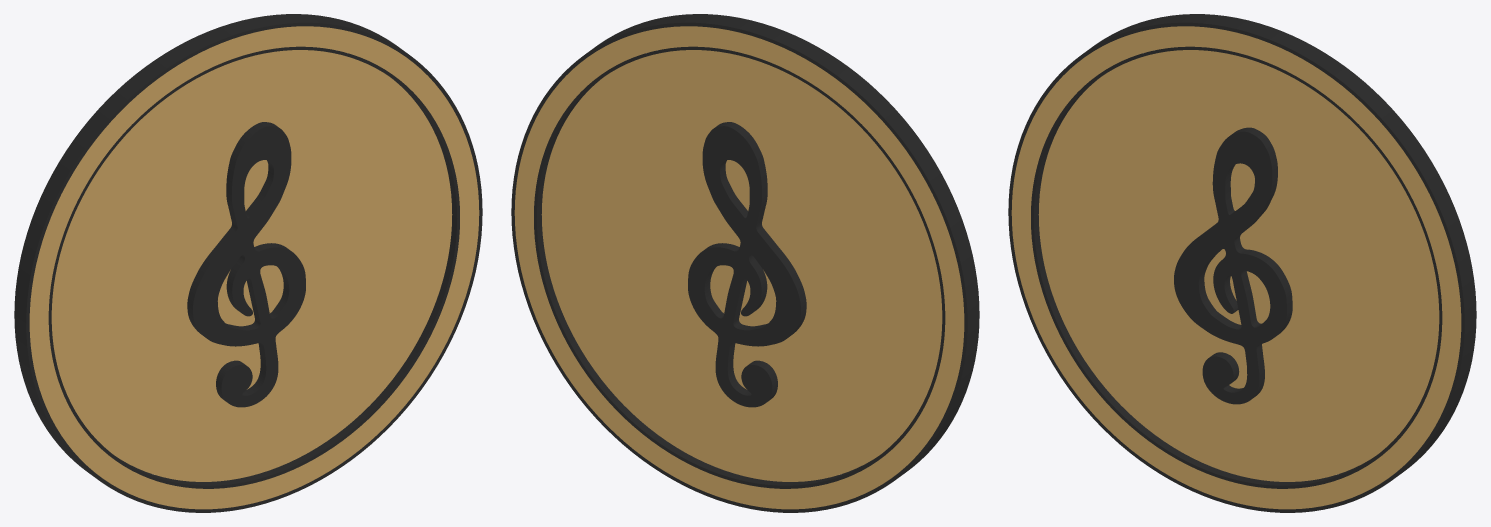
Rendered from MedalNote_1.glb.
The picture shows the model from 3 angles, left to right: view 1: azimuth 30°, elevation 25°; view 2: azimuth 150°, elevation 25°; view 3: azimuth 330°, elevation 25°; orthographic projection.
Parts seen in each view (by area): view 1: Circle, Note_1; view 2: Circle, Note_1; view 3: Circle, Note_1.
Part boxes in pixels (<box>): Circle: <box>14,14,482,512</box>; Note_1: <box>187,122,305,407</box>; Circle: <box>511,14,979,512</box>; Note_1: <box>688,122,806,407</box>; Circle: <box>1008,14,1476,512</box>; Note_1: <box>1174,127,1292,404</box>.
Size of the model in its own units: 2 by 2 by 0.0988.
